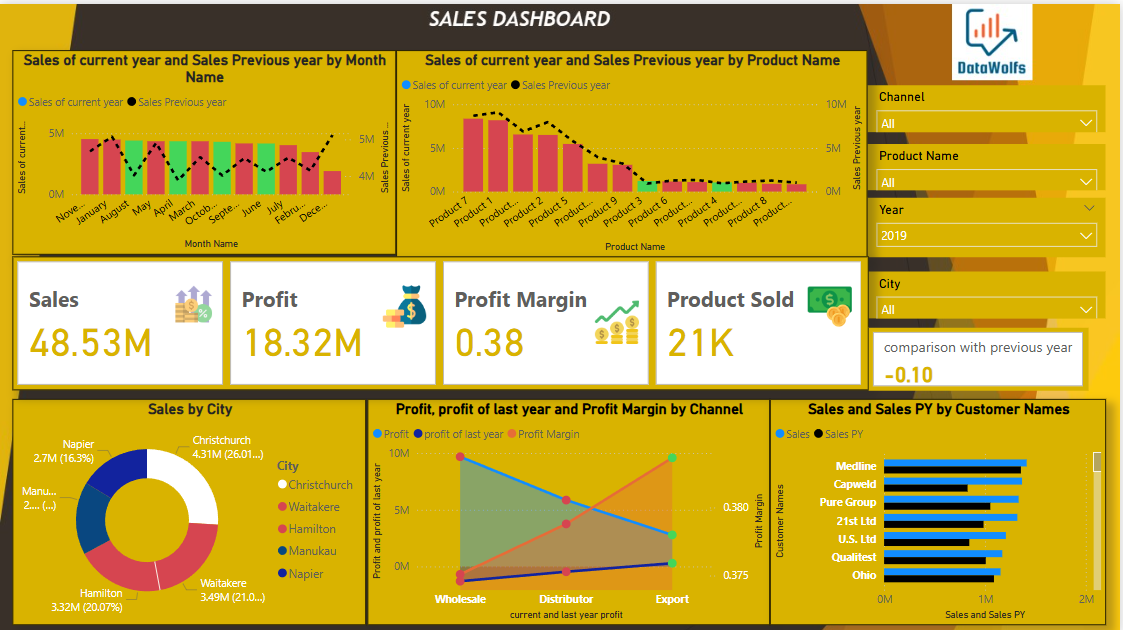

The dashboard page shown, as its layout file describes it:
{"tool":"powerbi","page":{"name":"Sales Dashbaord","canvas":[1280,720],"ordinal":1},"visuals":[{"type":"lineClusteredColumnComboChart","fields":{"Y":["measure Table.Sales"],"Y2":["measure Table.Sales PY"],"Category":["DateTable.Month Name"]},"box":[14.2,52.4,438,233.9],"z":0},{"type":"slicer","fields":{"Values":["DateTable.Year"]},"box":[990.8,221.1,272.2,68],"z":1000},{"type":"slicer","fields":{"Values":["Products_Data.Product Name"]},"box":[990.8,160.2,272.2,52.4],"z":2000},{"type":"slicer","fields":{"Values":["Sales_Data.Channel"]},"box":[990.8,93.6,272.2,53.9],"z":3000},{"type":"slicer","fields":{"Values":["Regions_Table.City"]},"box":[990.8,306.2,272.2,53.9],"z":4000},{"type":"lineClusteredColumnComboChart","fields":{"Category":["Products_Data.Product Name"],"Y":["measure Table.Sales"],"Y2":["measure Table.Sales PY"]},"box":[452.2,52.4,538.6,236.7],"z":5000},{"type":"donutChart","fields":{"Y":["measure Table.Sales"],"Category":["Regions_Table.City"]},"box":[14.3,451.4,404.3,258.6],"z":6000},{"type":"areaChart","fields":{"Category":["Sales_Data.Channel"],"Y":["measure Table.Profit","measure Table.Profit Vs LY"],"Y2":["measure Table.Profit Margin"]},"box":[420,451.4,460,258.6],"z":7000},{"type":"clusteredBarChart","fields":{"Y":["measure Table.Sales","measure Table.Sales PY"],"Category":["Customer_Data.Customer Names"]},"box":[880,451.4,384.3,258.6],"z":8000},{"type":"cardVisual","fields":{"Data":["measure Table.Sales","measure Table.Profit","measure Table.Profit Margin","measure Table.Product Sold"]},"box":[14.2,289.2,978.1,153.1],"z":9000},{"type":"cardVisual","fields":{"Data":["measure Table.Sales vs LY%"]},"box":[992.2,370,250.9,72.3],"z":10000}]}

Visuals, with their boxes in screenshot pixels (x1, y1, x2, y2), scaled from the page's 1280x720 canvas onto the 1123x630 screenshot:
lineClusteredColumnComboChart - measure Table.Sales x measure Table.Sales PY: BBox(12, 46, 397, 251)
slicer - DateTable.Year: BBox(869, 193, 1108, 253)
slicer - Products_Data.Product Name: BBox(869, 140, 1108, 186)
slicer - Sales_Data.Channel: BBox(869, 82, 1108, 129)
slicer - Regions_Table.City: BBox(869, 268, 1108, 315)
lineClusteredColumnComboChart - Products_Data.Product Name x measure Table.Sales: BBox(397, 46, 869, 253)
donutChart - measure Table.Sales x Regions_Table.City: BBox(13, 395, 367, 621)
areaChart - Sales_Data.Channel x measure Table.Profit: BBox(368, 395, 772, 621)
clusteredBarChart - measure Table.Sales x measure Table.Sales PY: BBox(772, 395, 1109, 621)
cardVisual - measure Table.Sales x measure Table.Profit: BBox(12, 253, 871, 387)
cardVisual - measure Table.Sales vs LY%: BBox(871, 324, 1091, 387)
